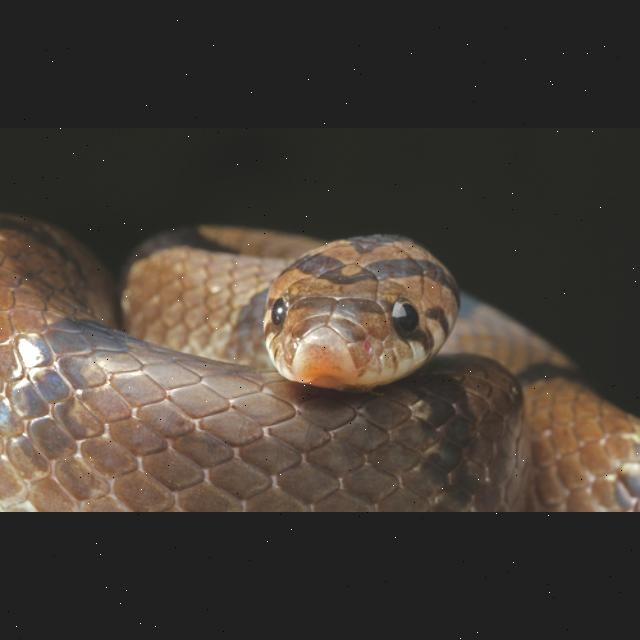snake: (0, 192, 640, 512)
